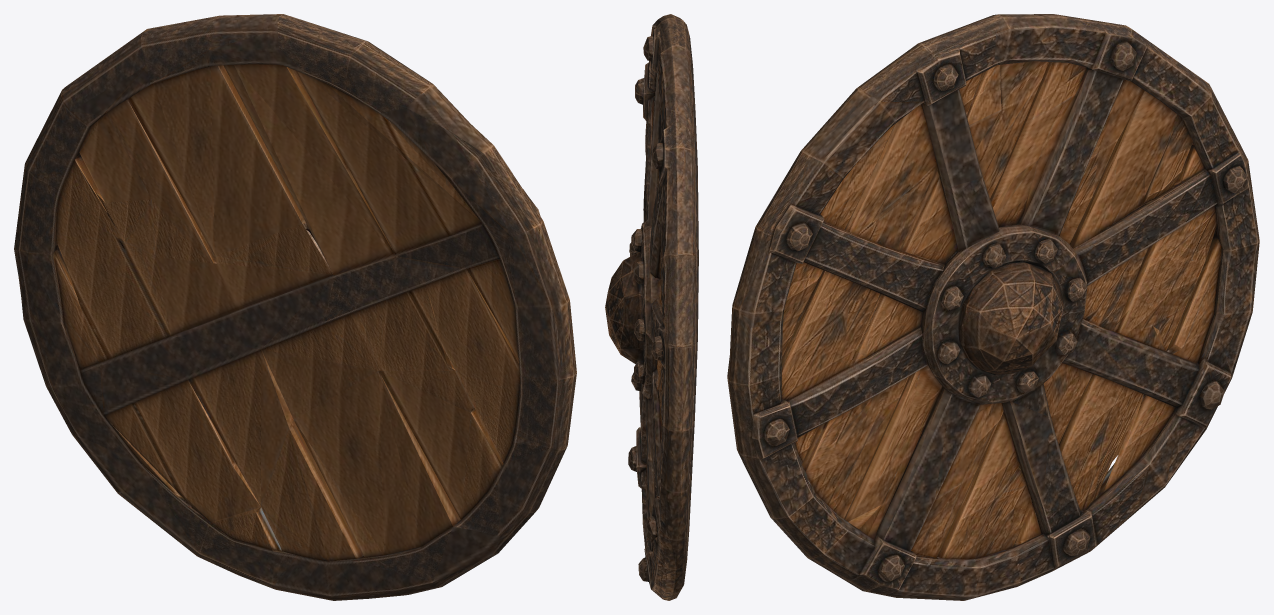
File: iron-shield.glb
The picture shows the model from 3 angles, left to right: view 1: azimuth 30°, elevation 25°; view 2: azimuth 150°, elevation 25°; view 3: azimuth 270°, elevation 25°; orthographic projection. The views are drawn at different scales.
Visible parts, largest first — view 1: Module_native_iron_shield; view 2: Module_native_iron_shield; view 3: Module_native_iron_shield.
Boxes of the visible parts, x1=… form: Module_native_iron_shield: x1=14, y1=14, x2=576, y2=600; Module_native_iron_shield: x1=605, y1=14, x2=698, y2=600; Module_native_iron_shield: x1=727, y1=14, x2=1259, y2=600.
Bounding box in the file's own units: 0.3872 × 0.7027 × 0.5971.
Materials: 1 (1 with a texture image).
